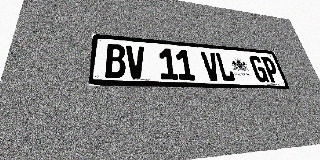1: (174, 49, 195, 80), (158, 48, 178, 80)
B: (105, 44, 126, 78)
G: (248, 55, 270, 83)
L: (215, 53, 236, 82)
P: (260, 56, 282, 83)
V: (126, 45, 146, 79), (200, 51, 222, 81)
